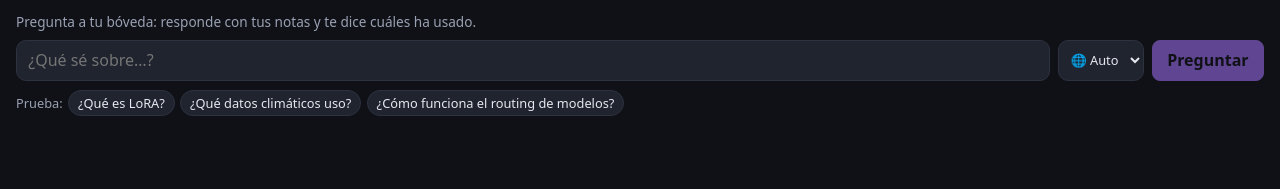
it: AskPanel › muestra el error del backend sin perder lo escrito
Type "¿Qué es LoRA?" into the field labelled "Pregunta a tu bóveda" at (533, 60), box 16,40 -> 1050,81
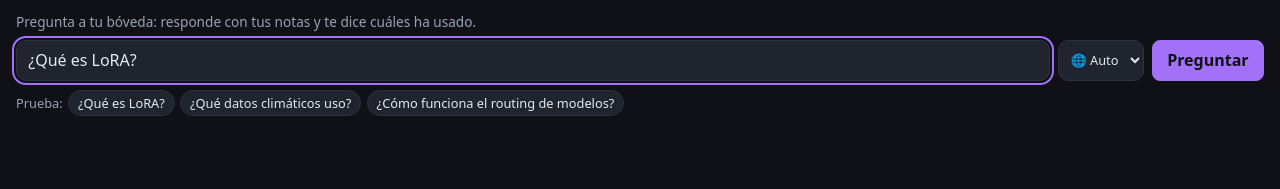
Click the button "Preguntar" at (1208, 60), box 1152,40 -> 1264,81
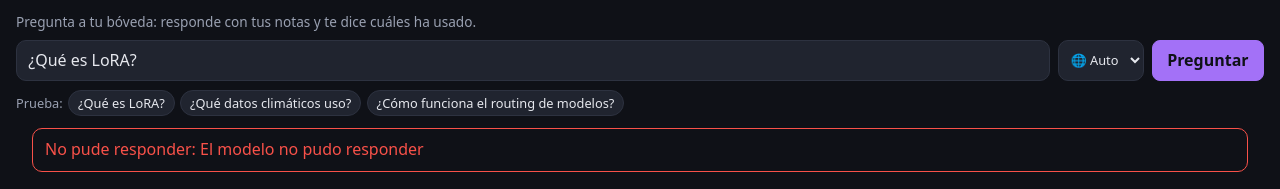
Check: the message shows "El modelo no pudo responder", box 45,138 -> 424,160
